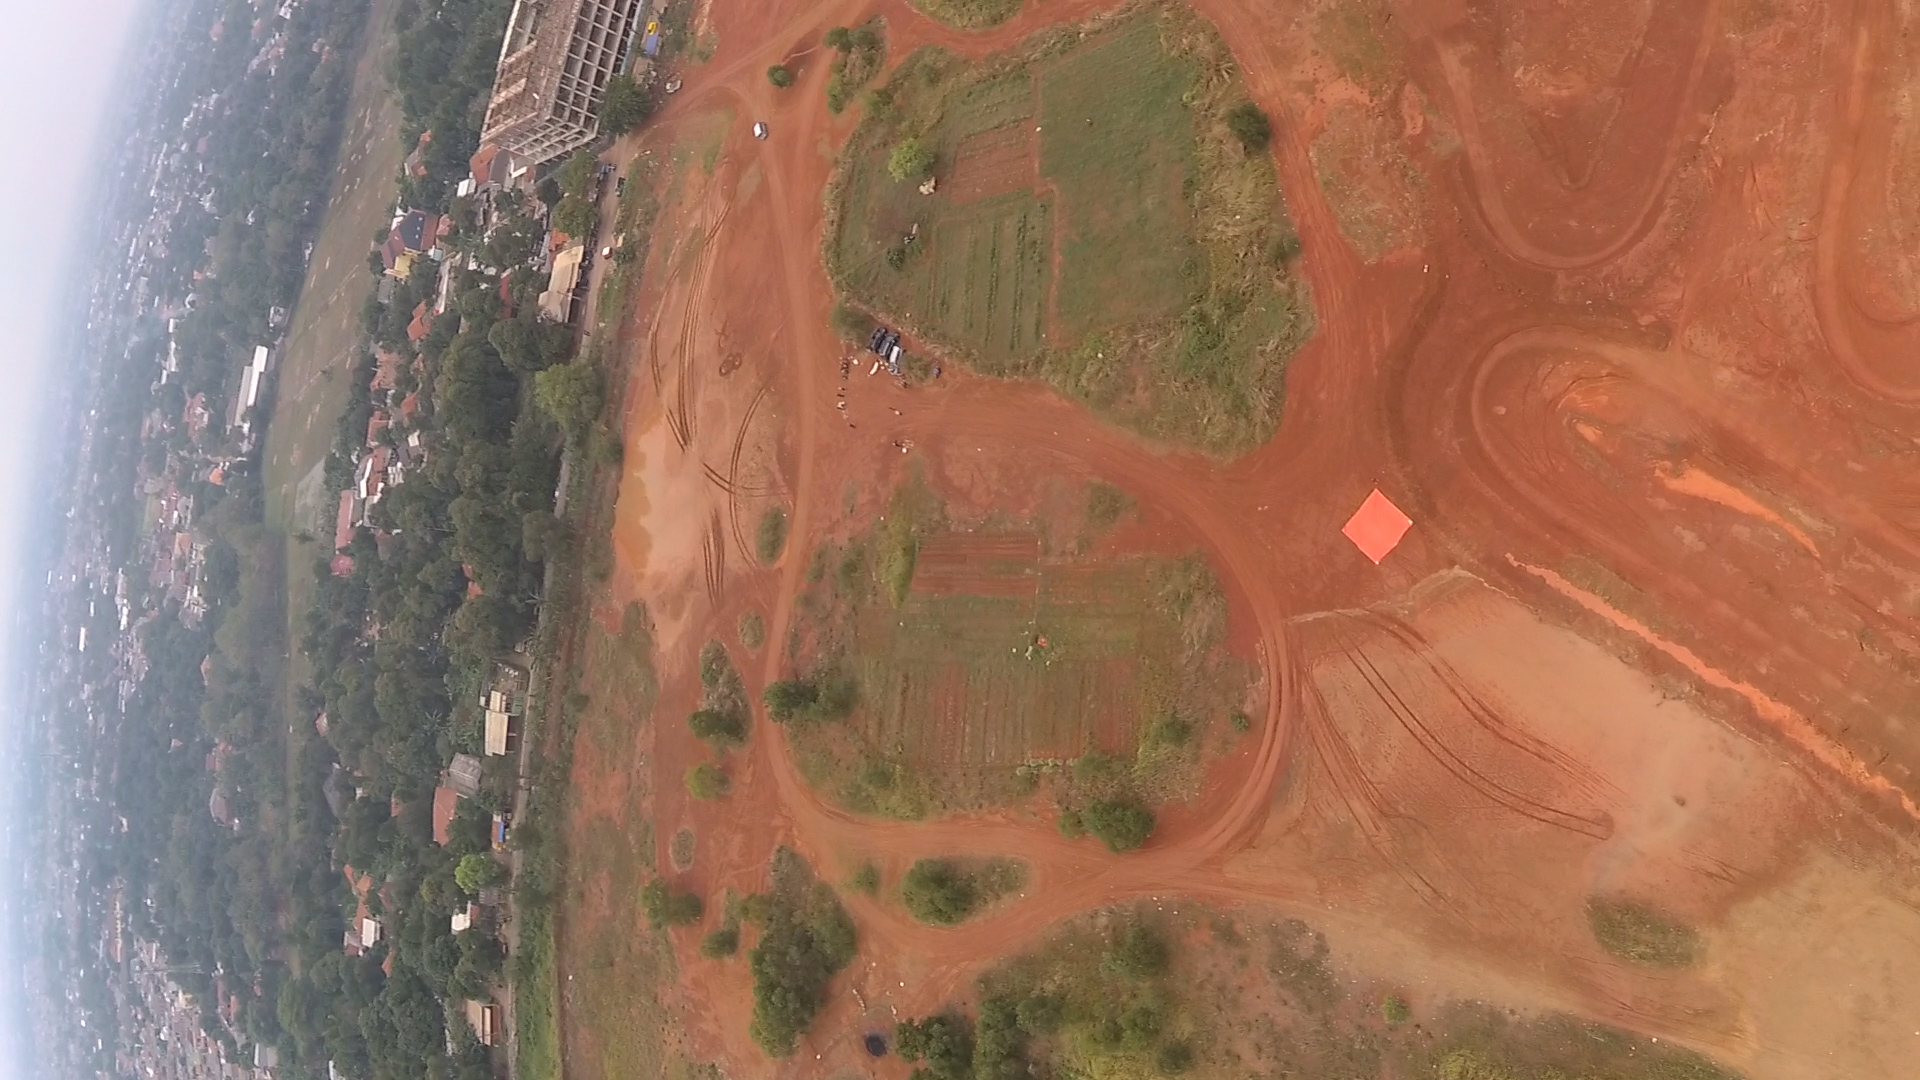Orange Dropzone: (1337, 484, 1418, 568)
